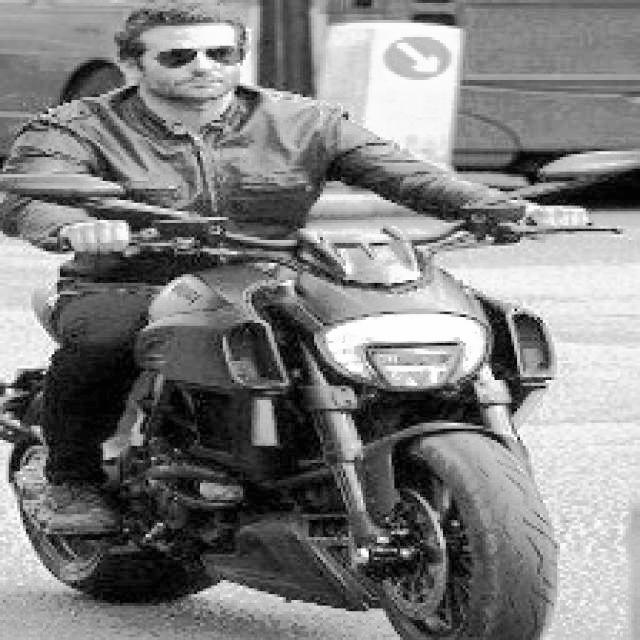Bike: (34, 222, 576, 638)
